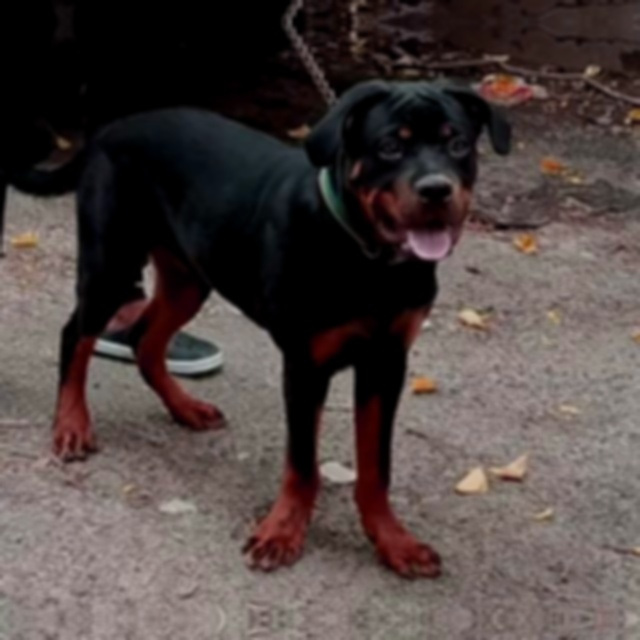dog: (297, 57, 520, 280)
